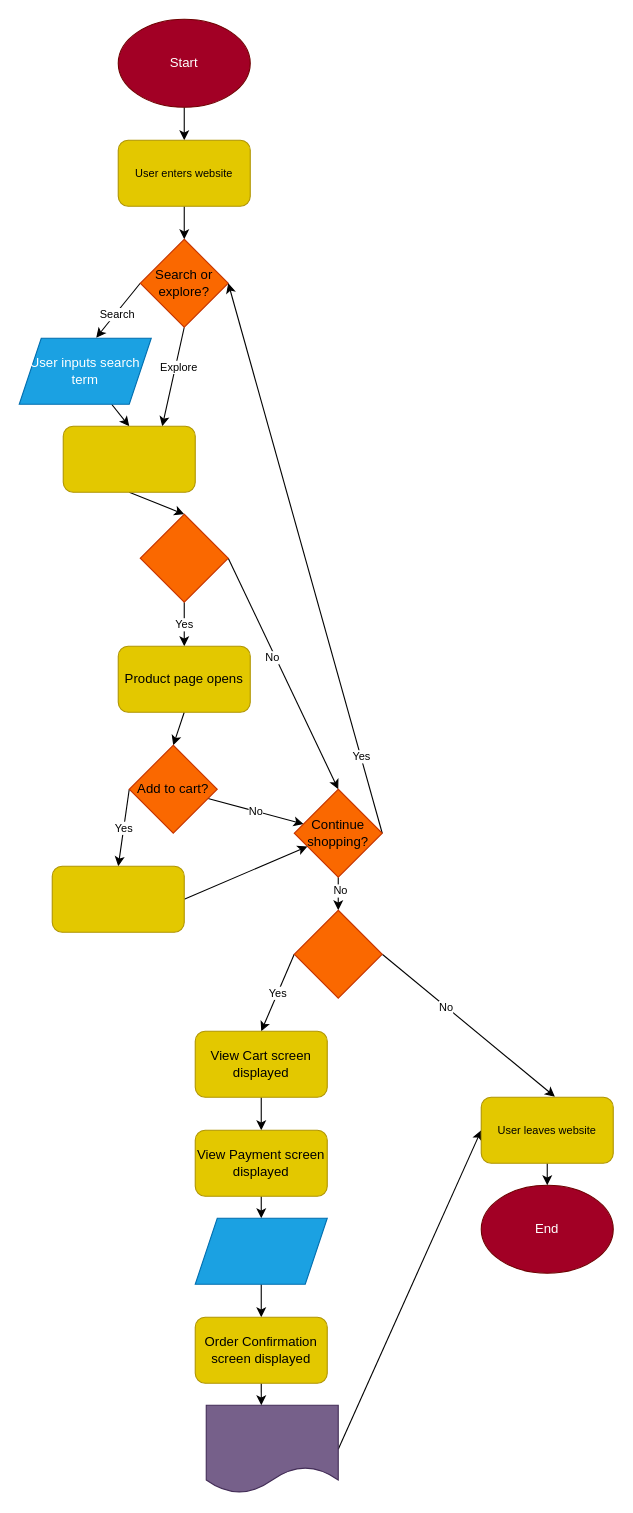
Image size: 633x1513. Some labels were removed from this diagram. Each missing label, with the box of its shape:
Added to cart confirmation displayed: (51, 865, 184, 932)
Checkout?: (293, 909, 382, 998)
Confirmation email sent: (205, 1404, 338, 1493)
User inputs payment information: (194, 1217, 327, 1284)
User looks over appropriate products: (62, 425, 195, 492)
View specific product?: (139, 513, 228, 602)
